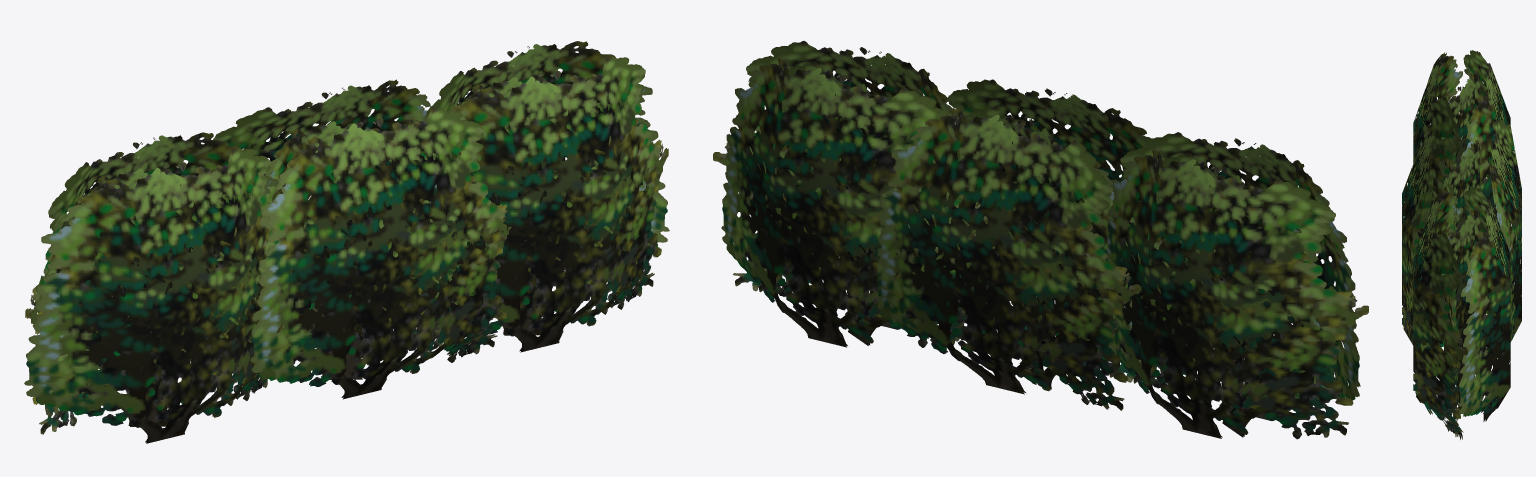
File: tree_03b_ds.fbx
The picture shows the model from 3 angles, left to right: view 1: azimuth 30°, elevation 25°; view 2: azimuth 150°, elevation 25°; view 3: azimuth 270°, elevation 25°; orthographic projection. The views are drawn at different scales.
Visible parts, largest first — view 1: tree_03b_ds; view 2: tree_03b_ds; view 3: tree_03b_ds.
Boxes of the visible parts, left/top/right/bottom form: tree_03b_ds: left=24, top=41, right=669, bottom=443; tree_03b_ds: left=713, top=41, right=1368, bottom=439; tree_03b_ds: left=1402, top=50, right=1521, bottom=439.
Bounding box in the file's own units: 6.36 × 2.62 × 1.35.
